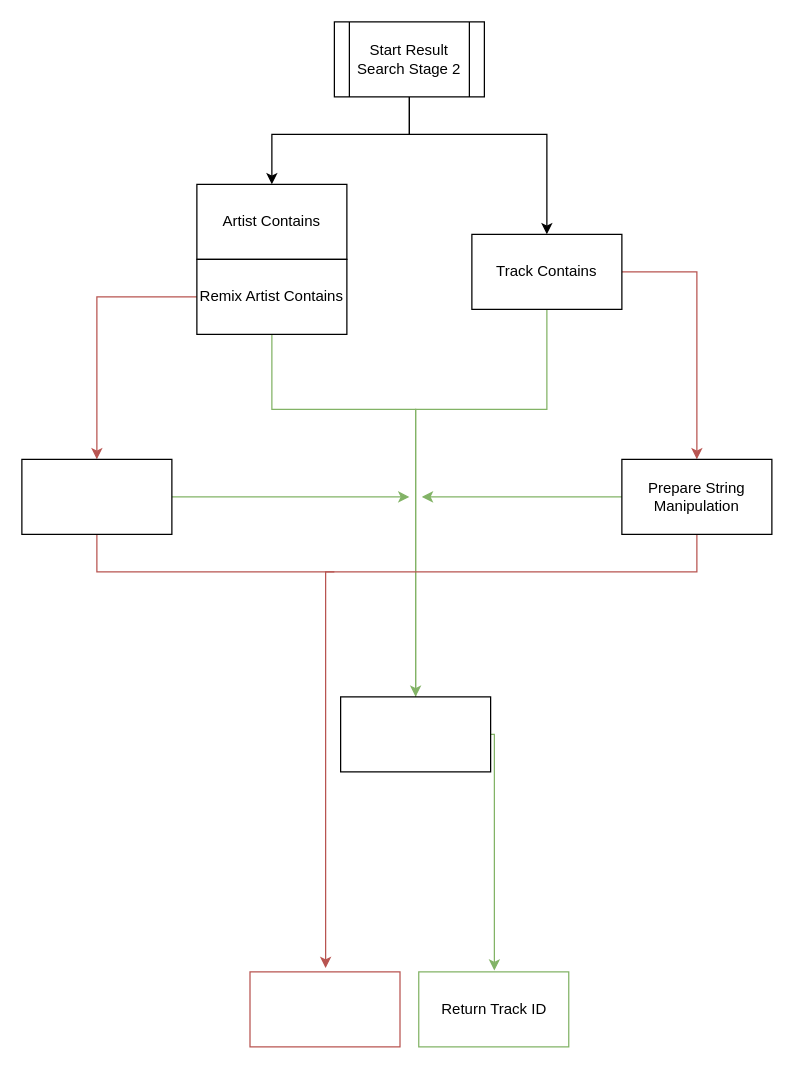
This 794x1069 diagram has some shape labels left out. The box of each missing label's shape, as (x1, y1, x2, y2) in pixels:
Duration +/- 1: (339, 696, 491, 772)
Return 0: (249, 971, 400, 1047)
Track Contains Artist: (21, 458, 172, 534)
